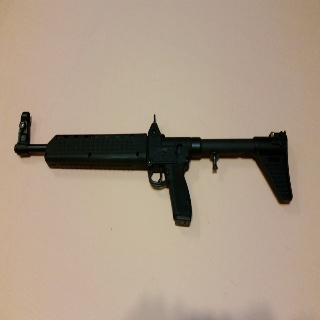rifle: (14, 109, 297, 226)
